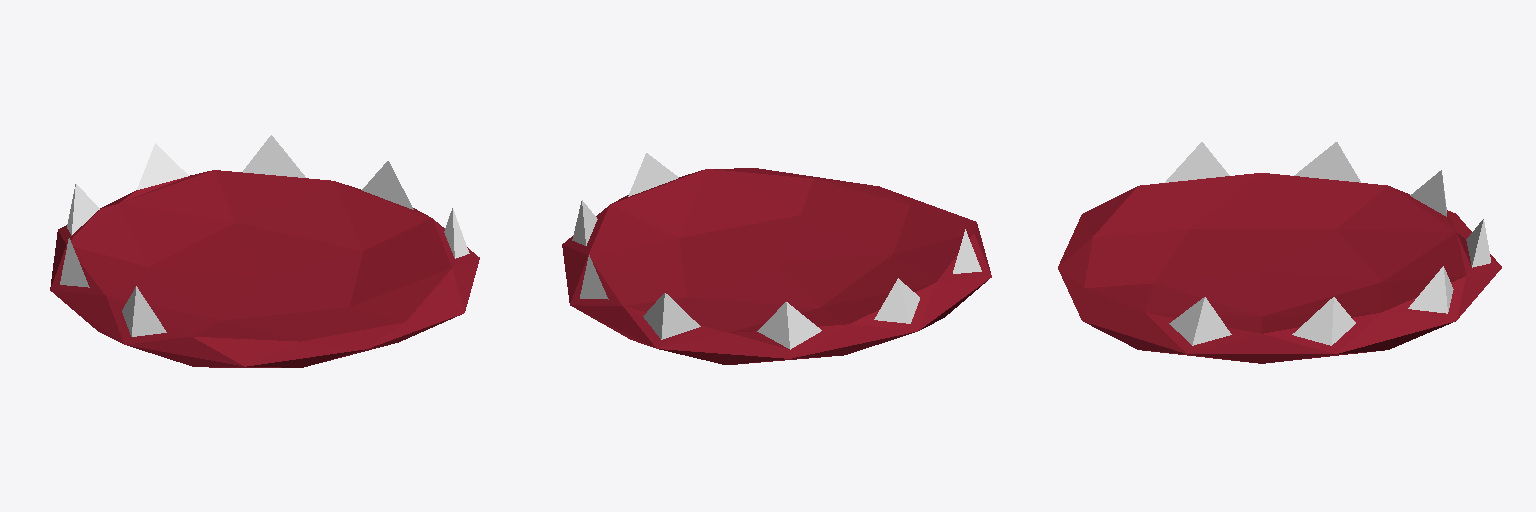
3 renders of one model, left to right at view 1: azimuth 30°, elevation 25°; view 2: azimuth 150°, elevation 25°; view 3: azimuth 270°, elevation 25°, orthographic.
Parts seen in each view (by area): view 1: ICO球; view 2: ICO球; view 3: ICO球.
Boxes of the visible parts, x1=… form: ICO球: x1=50, y1=135, x2=479, y2=367; ICO球: x1=562, y1=153, x2=991, y2=364; ICO球: x1=1058, y1=142, x2=1501, y2=363.
Bounding box in the file's own units: 1.71 × 0.3509 × 1.85.
1 materials, 1 textured.